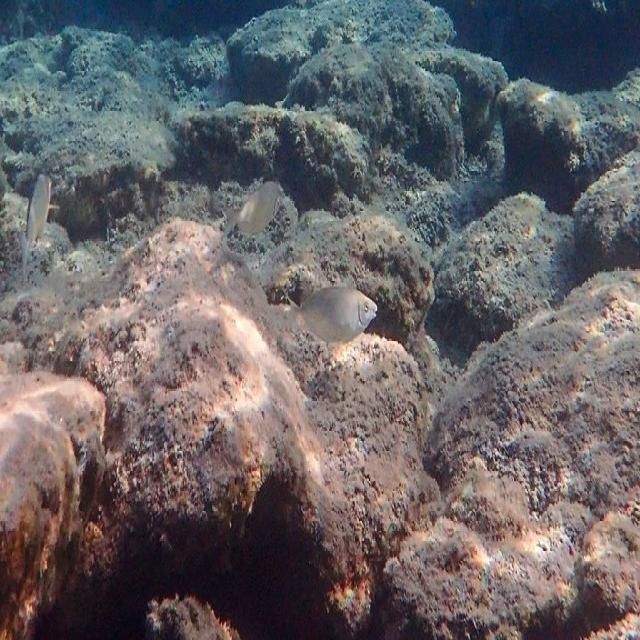Sokar Baligi: (274, 272, 382, 358)
